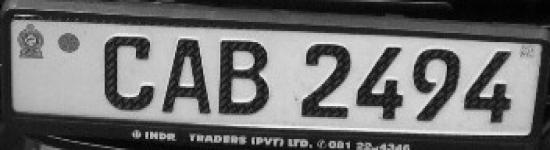2: (289, 38, 354, 122)
4: (353, 38, 410, 125), (462, 47, 520, 129)
9: (410, 42, 463, 130)
A: (157, 31, 218, 122)
B: (213, 31, 274, 123)
C: (99, 32, 157, 116)
